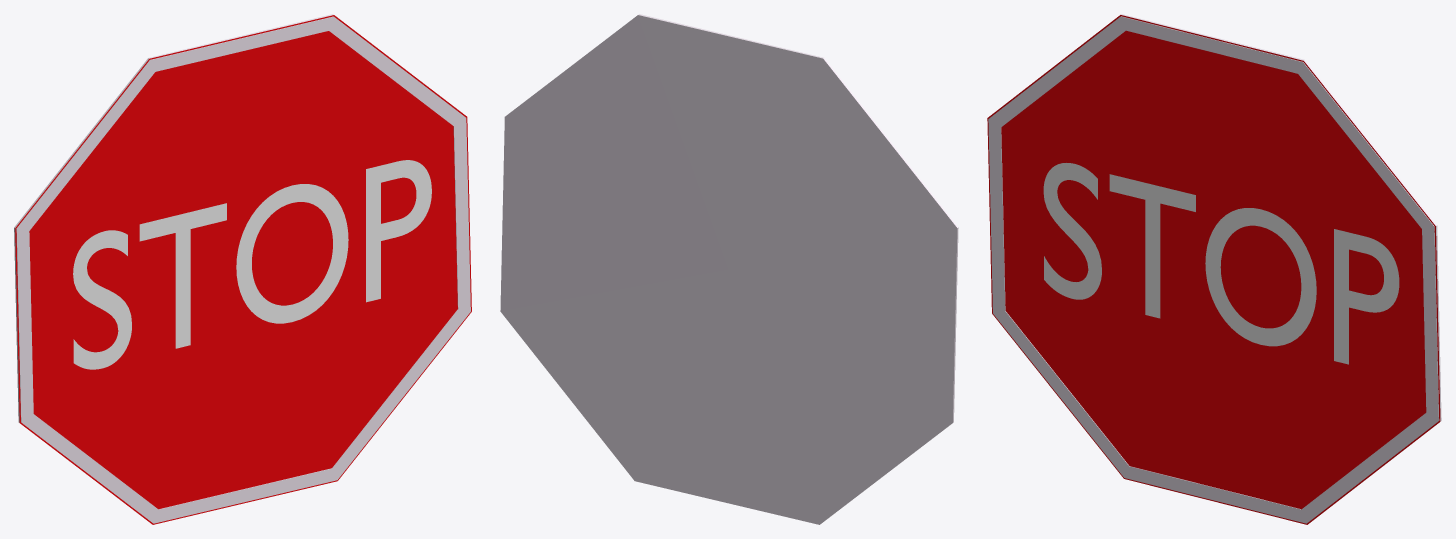
The model's file is stop.fbx.
The picture shows the model from 3 angles, left to right: view 1: azimuth 30°, elevation 25°; view 2: azimuth 150°, elevation 25°; view 3: azimuth 330°, elevation 25°; orthographic projection.
Visible parts, largest first — view 1: Cube, STOP; view 2: Cube; view 3: Cube, STOP.
Boxes of the visible parts, <box> form: Cube: <box>14,14,471,524</box>; STOP: <box>73,160,431,369</box>; Cube: <box>500,14,958,524</box>; Cube: <box>987,14,1441,524</box>; STOP: <box>1043,163,1399,364</box>.
Size of the model in its own units: 0.8604 by 0.8431 by 0.0067.
